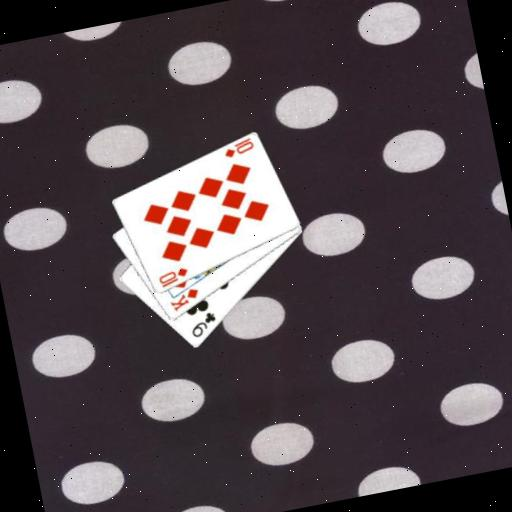10D: (154, 264, 191, 291), (220, 134, 257, 161)
9C: (186, 309, 221, 341)
KD: (165, 284, 203, 314)
